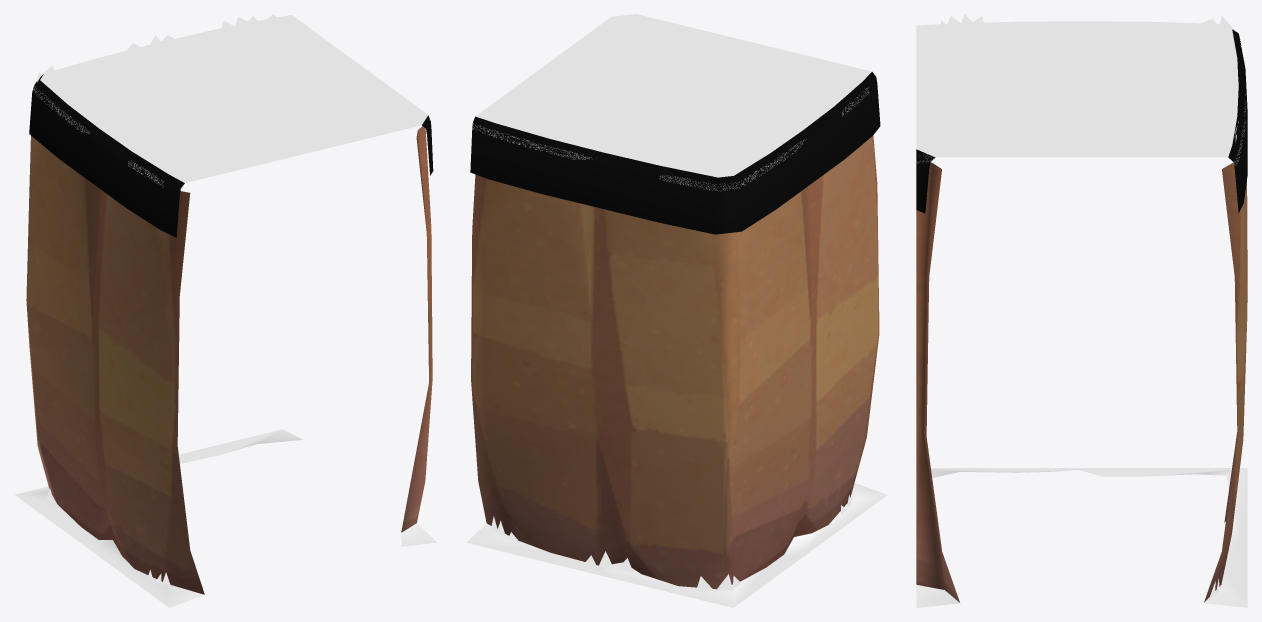
The picture shows the model from 3 angles, left to right: view 1: azimuth 30°, elevation 25°; view 2: azimuth 150°, elevation 25°; view 3: azimuth 270°, elevation 25°; orthographic projection. The views are drawn at different scales.
Visible parts, largest first — view 1: CliffThin__mCliff, GrassT__mGrass, GrassOP_1__mGrassCliffXlu, GrassB_1__mGrass, PGrassBB__mProcGrass; view 2: CliffThin__mCliff, GrassT__mGrass, GrassOP_1__mGrassCliffXlu, GrassB_1__mGrass, PGrassBB__mProcGrass; view 3: GrassT__mGrass, CliffThin__mCliff, GrassB_1__mGrass, GrassOP_1__mGrassCliffXlu, PGrassBB__mProcGrass.
Part boxes in pixels (x1,y1,x2,y2): CliffThin__mCliff: (26, 126, 432, 594); GrassT__mGrass: (33, 15, 429, 187); GrassOP_1__mGrassCliffXlu: (29, 74, 433, 237); GrassB_1__mGrass: (15, 429, 436, 607); PGrassBB__mProcGrass: (37, 14, 277, 586); CliffThin__mCliff: (471, 135, 879, 589); GrassT__mGrass: (472, 14, 871, 190); GrassOP_1__mGrassCliffXlu: (470, 72, 880, 234); GrassB_1__mGrass: (466, 483, 887, 607); PGrassBB__mProcGrass: (491, 74, 859, 592); GrassT__mGrass: (916, 21, 1245, 165); CliffThin__mCliff: (916, 162, 1247, 602); GrassB_1__mGrass: (916, 468, 1247, 607); GrassOP_1__mGrassCliffXlu: (916, 29, 1247, 213); PGrassBB__mProcGrass: (939, 14, 1238, 599).
Size of the model in its own units: 10 by 15.38 by 10.
4 materials, 1 textured.
